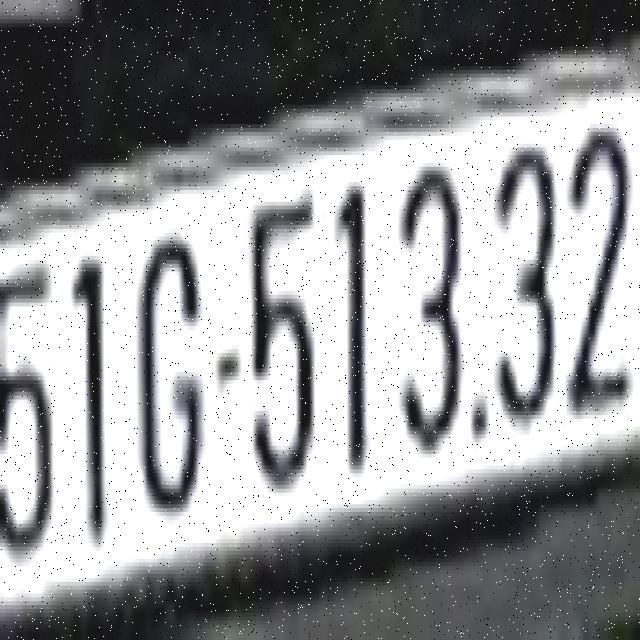1: (331, 159, 372, 481), (71, 237, 110, 550)
2: (566, 109, 633, 415)
3: (396, 142, 461, 464), (492, 116, 556, 438)
5: (250, 174, 318, 500), (0, 256, 56, 566)
G: (138, 217, 202, 520)
